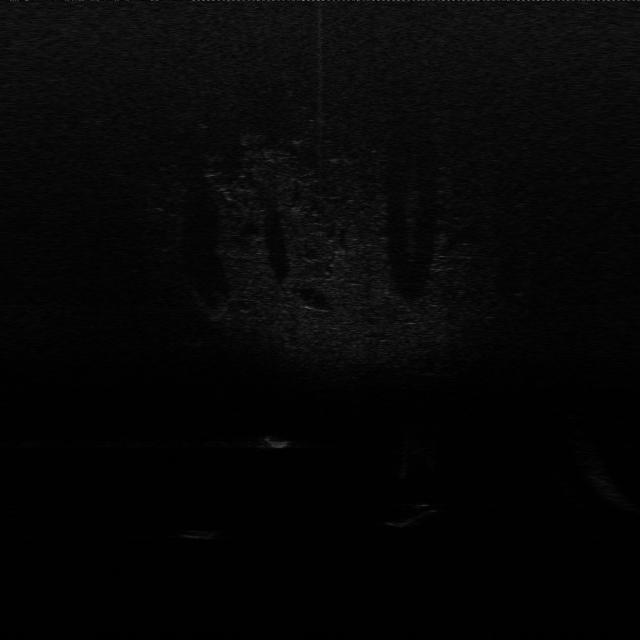cube: (180, 527, 220, 548)
square cage: (254, 429, 294, 453)
tyre: (384, 496, 442, 529)
